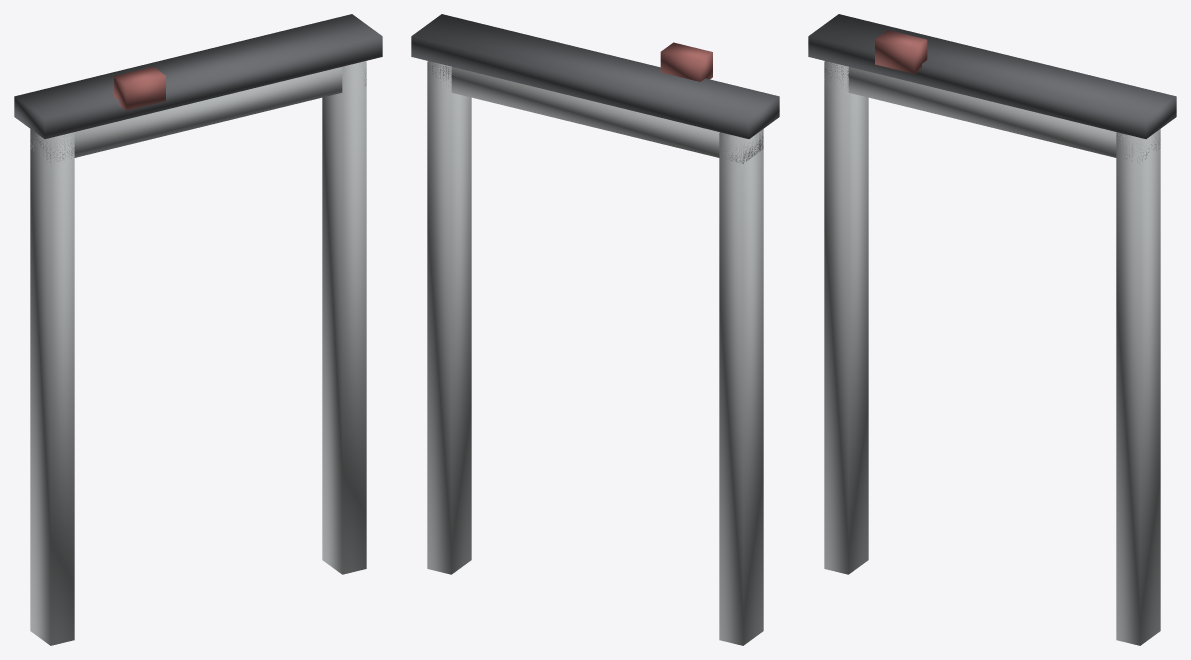
Rendered from doorway_fire_rated_w122_h210_d16.glb.
3 views of the same model, side by side, from view 1: azimuth 30°, elevation 25°; view 2: azimuth 150°, elevation 25°; view 3: azimuth 330°, elevation 25° (orthographic).
Parts seen in each view (by area): view 1: world; view 2: world; view 3: world.
Part boxes in pixels (x1,y1,x2,y2): world: [14, 14, 382, 645]; world: [411, 14, 779, 645]; world: [808, 14, 1176, 645].
Bounding box in the file's own units: 1.54 × 2.41 × 0.3.
